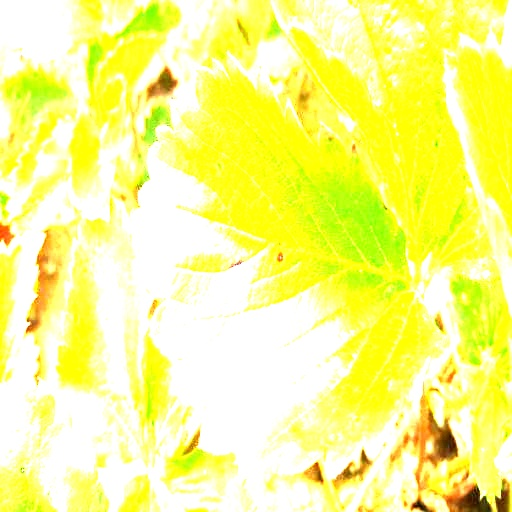Leaf Spot: (129, 50, 452, 481), (272, 0, 511, 268), (48, 192, 155, 469), (0, 369, 112, 511), (142, 335, 210, 461), (0, 231, 47, 385)
